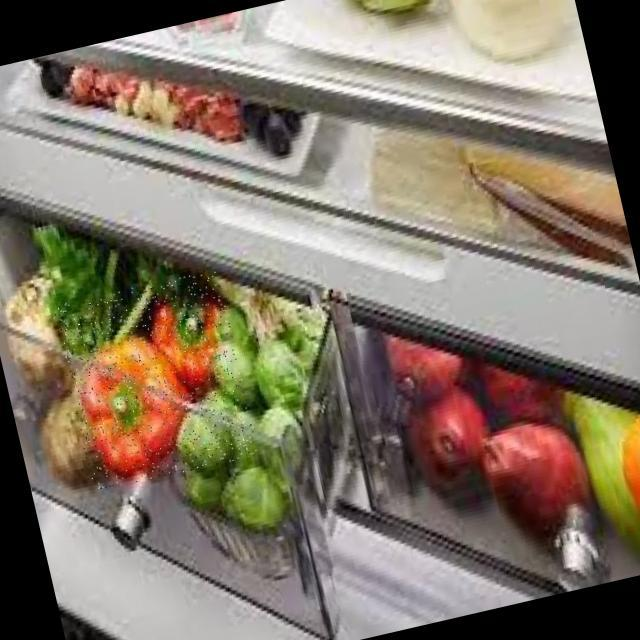peppers: (51, 268, 260, 493)
